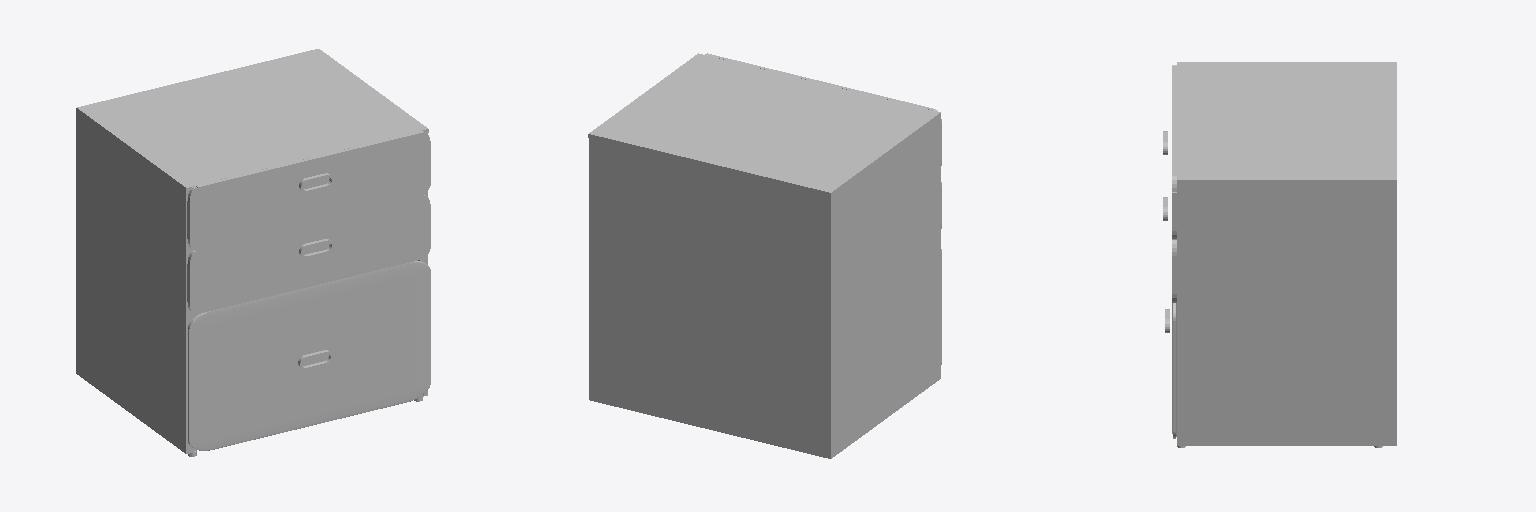
File: StorageFurniture_StuvaFritidsChestRed.obj
The picture shows the model from 3 angles: view 1: azimuth 30°, elevation 25°; view 2: azimuth 150°, elevation 25°; view 3: azimuth 270°, elevation 25°; orthographic projection.
Parts seen in each view (by area): view 1: obj_0; view 2: obj_0; view 3: obj_0.
Boxes of the visible parts, x1,y1,x2,y2 form: obj_0: [76, 49, 430, 456]; obj_0: [588, 53, 941, 458]; obj_0: [1163, 62, 1396, 447].
Bounding box in the file's own units: 60 × 64 × 50.